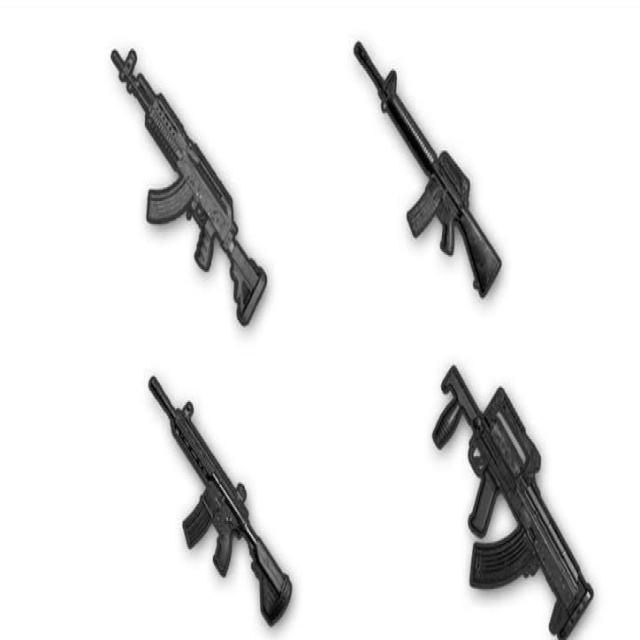Weapon: (432, 365, 591, 640), (111, 49, 266, 322), (354, 42, 499, 295), (149, 377, 291, 623)
